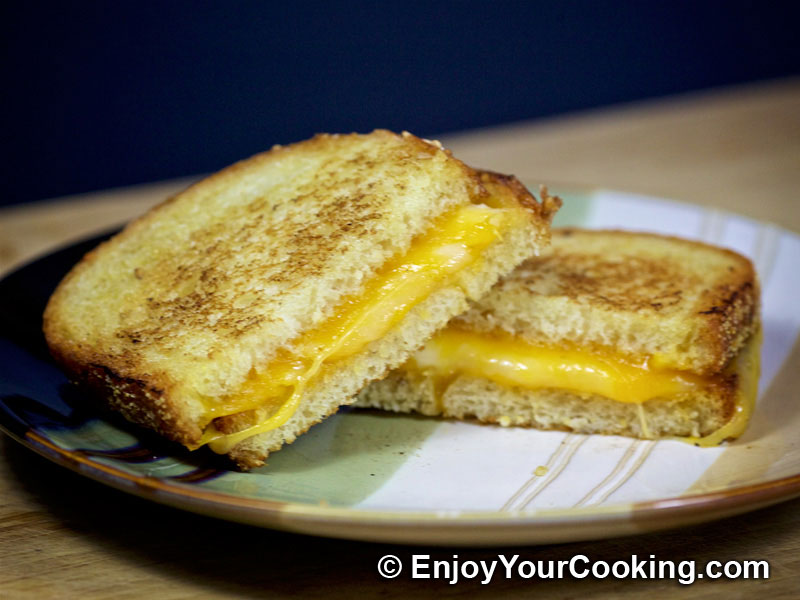sandwich: (7, 88, 800, 535)
